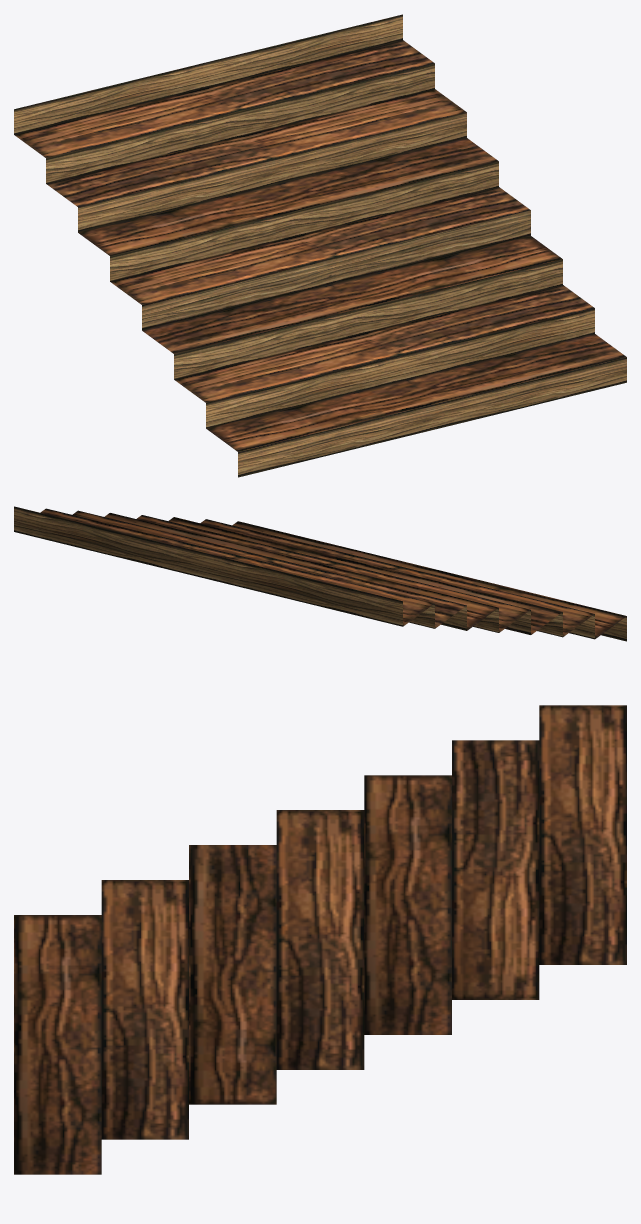
Rendered from LAKETOWN_EXTERIOR_PS_LT_STEP_01.fbx.
3 views of the same model, one above another, from view 1: azimuth 30°, elevation 25°; view 2: azimuth 150°, elevation 25°; view 3: azimuth 270°, elevation 25° (orthographic). The views are drawn at different scales.
Visible parts, largest first — view 1: LAKETOWN_EXTERIOR_PS_LT_STEP_01; view 2: LAKETOWN_EXTERIOR_PS_LT_STEP_01; view 3: LAKETOWN_EXTERIOR_PS_LT_STEP_01.
Part boxes in pixels (bbox=[...]): LAKETOWN_EXTERIOR_PS_LT_STEP_01: bbox=[14, 14, 626, 477]; LAKETOWN_EXTERIOR_PS_LT_STEP_01: bbox=[14, 506, 626, 641]; LAKETOWN_EXTERIOR_PS_LT_STEP_01: bbox=[14, 705, 626, 1174].
Bounding box in the file's own units: 35085 × 17608 × 35000.
Materials: 2 (2 with a texture image).
